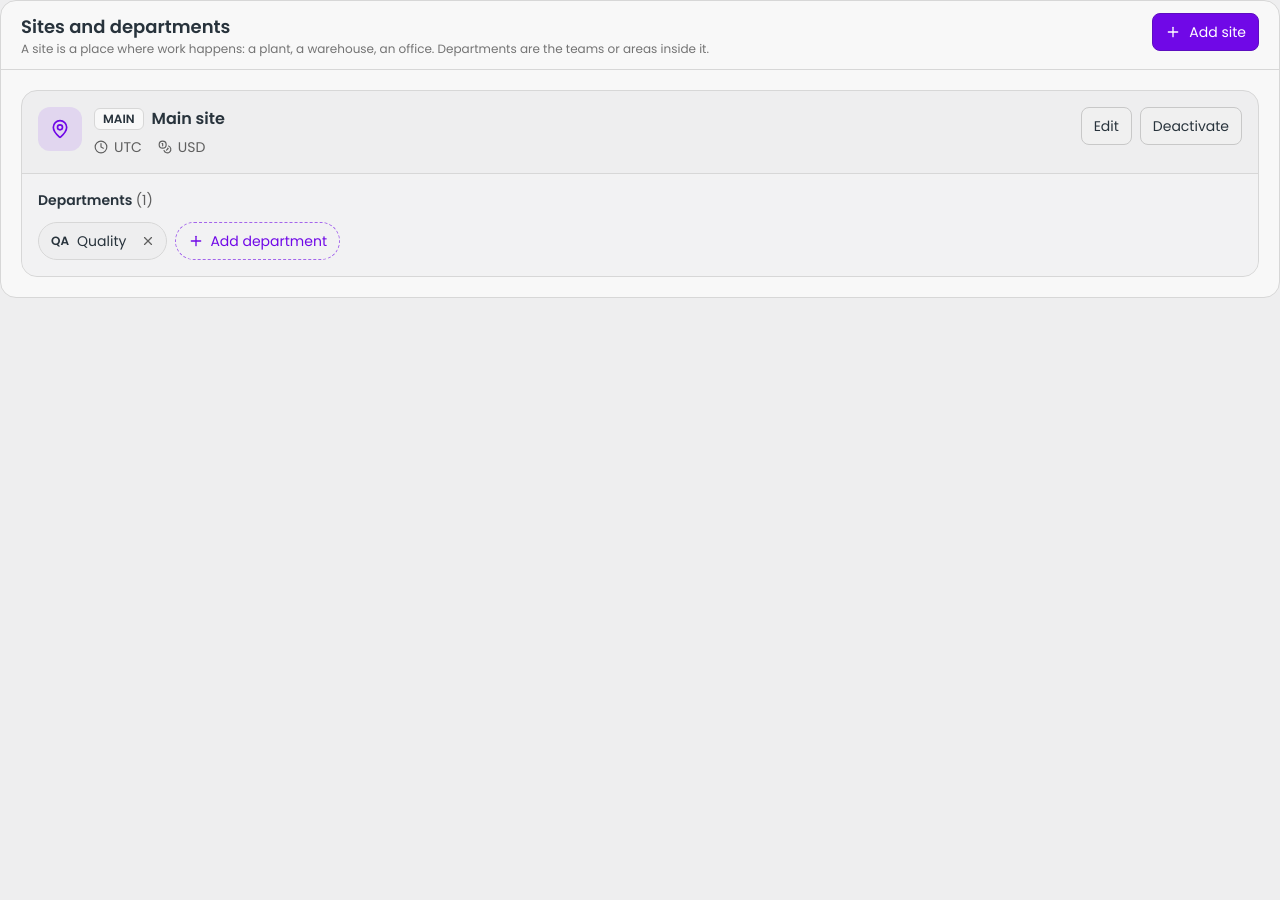
Test: sites › opens a pop-up to edit a site, not an inline form
The width and height of the screenshot is (1280, 900).
Click the button with aria-label "Edit site MAIN": (1106, 126) [1081,107,1132,145]
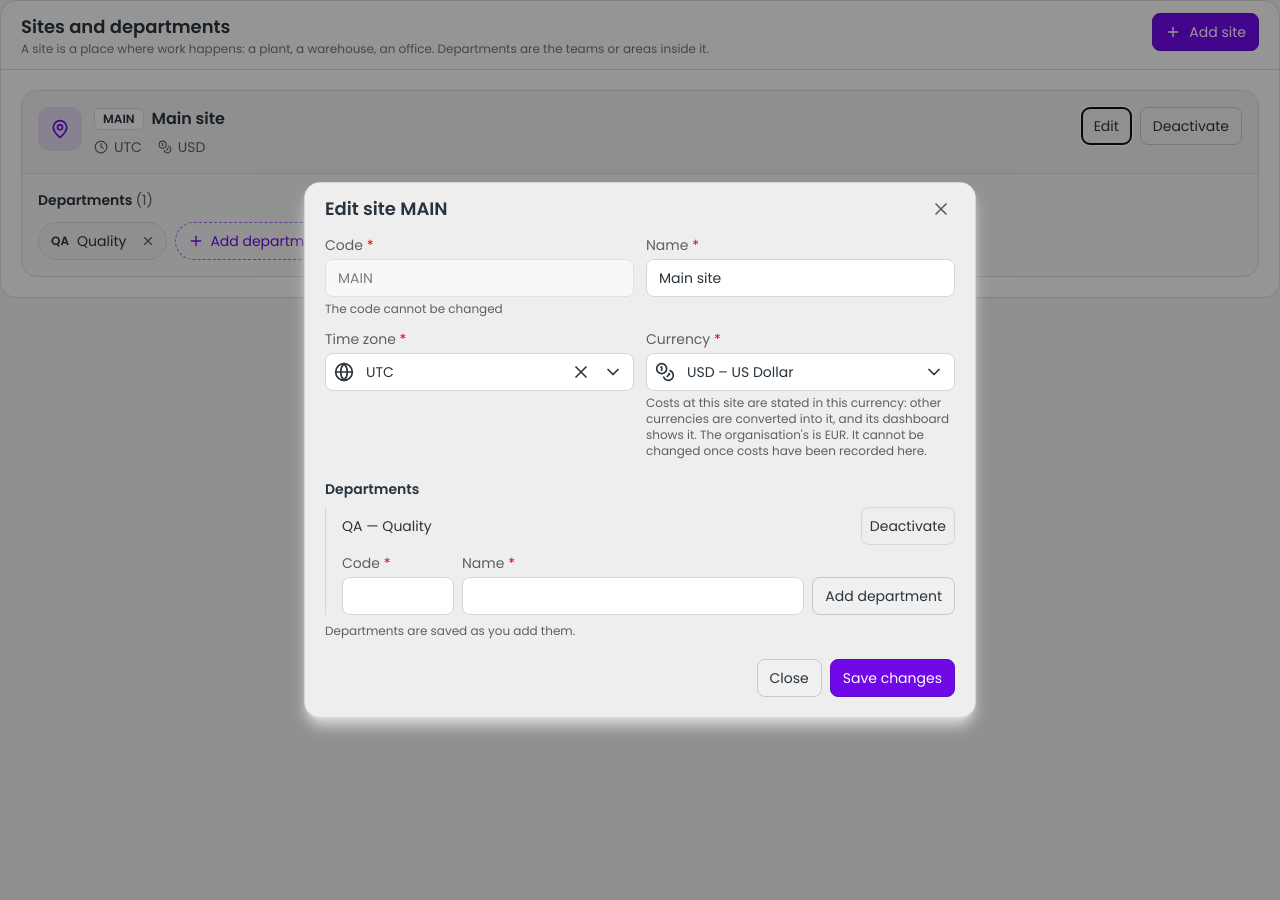
Check: the 1st field labelled "Name" holds "Main site", box [646,259,955,297]
Check: the 1st field labelled "Code" is disabled, box [325,259,634,297]
Check: the element "Departments" shows "Quality", box [382,516,432,536]
